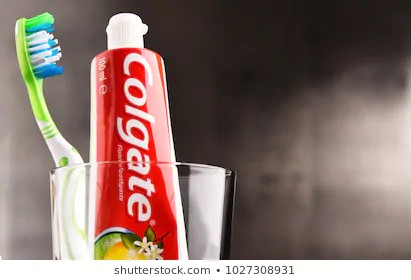toothbrush: (13, 8, 86, 168)
